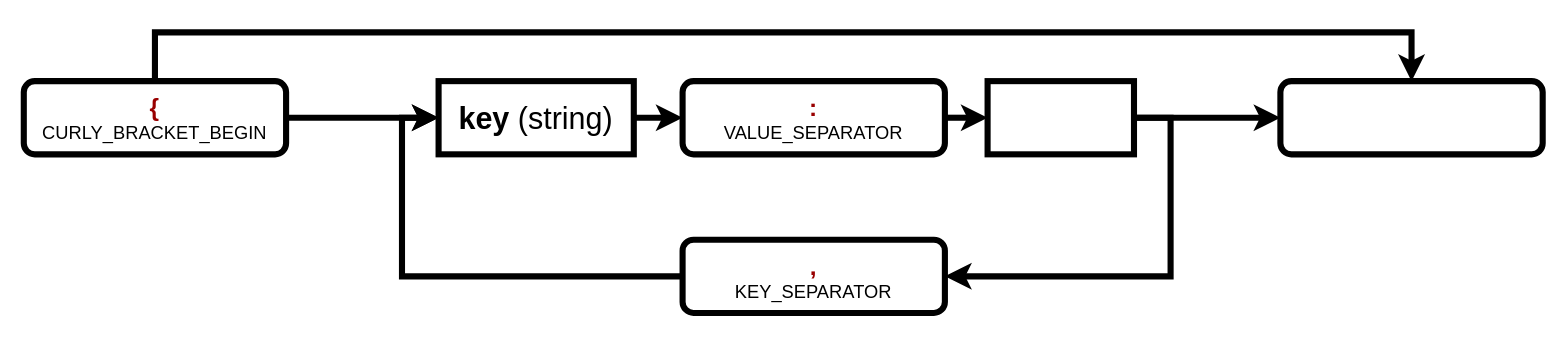
This 1566x337 diagram has some shape labels left out. Each missing label, with the box of its shape:
value: (984, 77, 1136, 157)
} CURLY_BRACKET_END: (1277, 77, 1545, 157)
